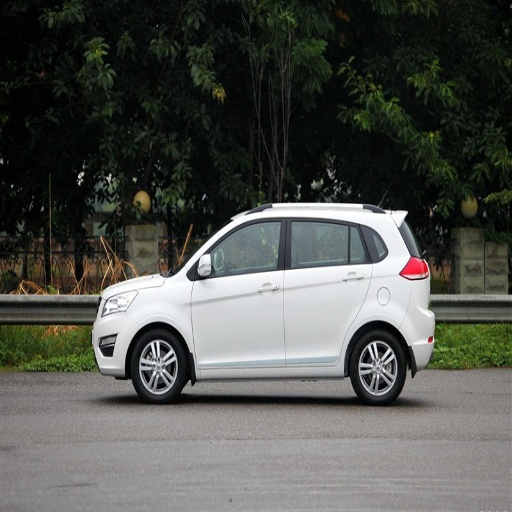back_left_door: (286, 216, 369, 363)
front_left_door: (191, 217, 285, 365)
